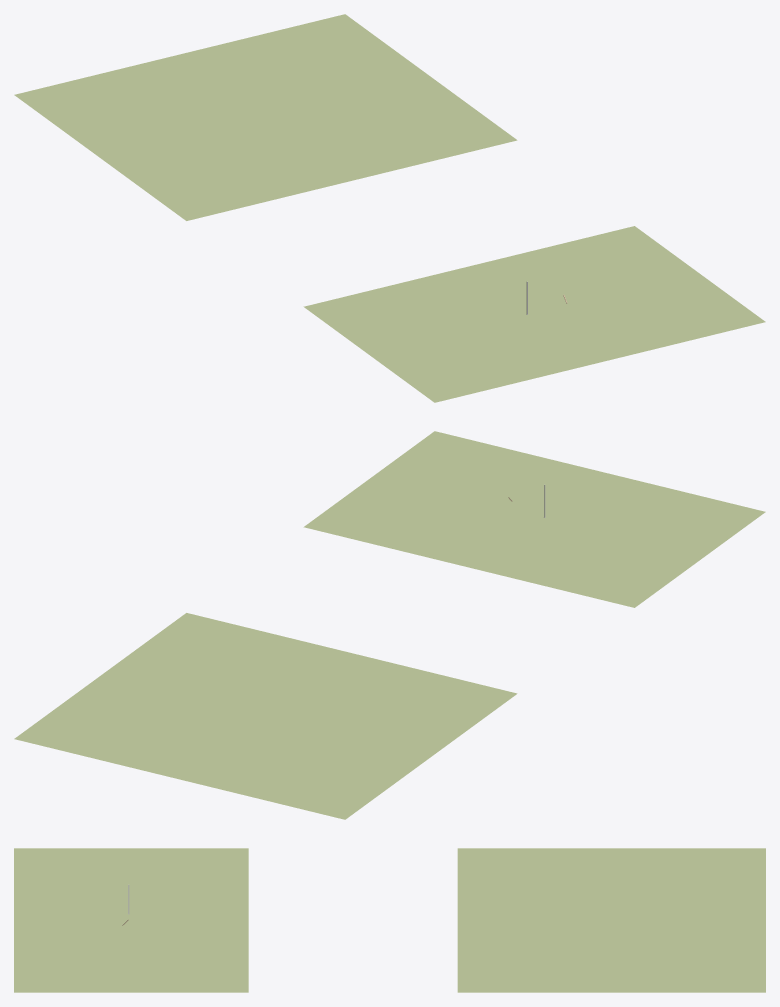
File: 1 & 2 Module.glb
The picture shows the model from 3 angles, top to bottom: view 1: azimuth 30°, elevation 25°; view 2: azimuth 150°, elevation 25°; view 3: azimuth 270°, elevation 25°; orthographic projection. The views are drawn at different scales.
Parts seen in each view (by area): view 1: Node177, Node176; view 2: Node177, Node176; view 3: Node177, Node176.
Boxes of the visible parts, <box> form: Node177: <box>14,14,517,220</box>; Node176: <box>303,226,765,402</box>; Node177: <box>14,613,517,819</box>; Node176: <box>303,431,765,607</box>; Node177: <box>457,848,765,992</box>; Node176: <box>14,848,248,992</box>.
Size of the model in its own units: 1517 by 157 by 3337.
